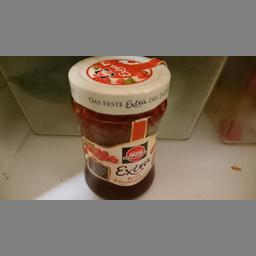jam: (65, 54, 169, 196)
